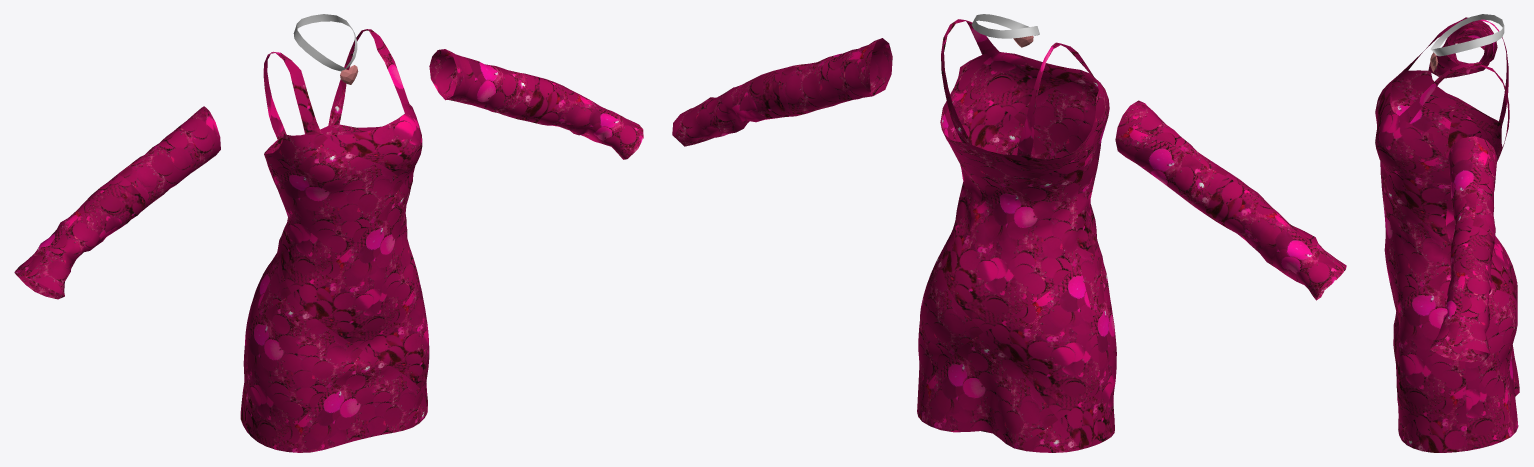
File: datenight2.glb
3 views of the same model, side by side, from view 1: azimuth 30°, elevation 25°; view 2: azimuth 150°, elevation 25°; view 3: azimuth 270°, elevation 25° (orthographic). The views are drawn at different scales.
Visible parts, largest first — view 1: Untitled (22); view 2: Untitled (22); view 3: Untitled (22).
Boxes of the visible parts, x1,y1,x2,y2 form: Untitled (22): (14,14,643,452); Untitled (22): (672,14,1346,452); Untitled (22): (1375,14,1519,452).
Bounding box in the file's own units: 1.1 × 0.6613 × 0.2218.
4 materials, 2 textured.
